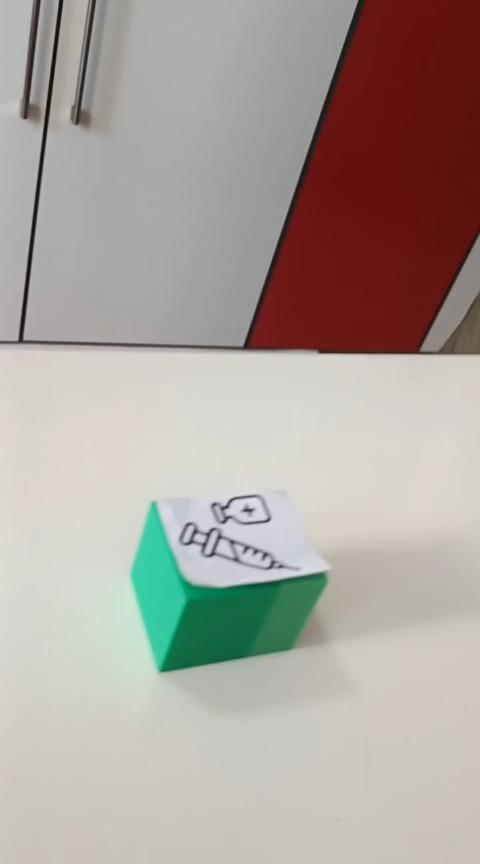antiseptic cream: (128, 487, 331, 673)
